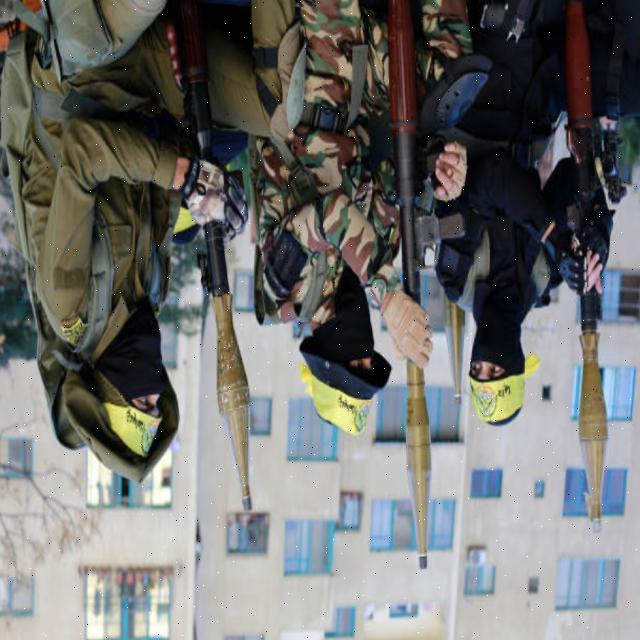bazooka: (389, 1, 478, 587), (179, 29, 262, 537), (558, 14, 625, 521)
